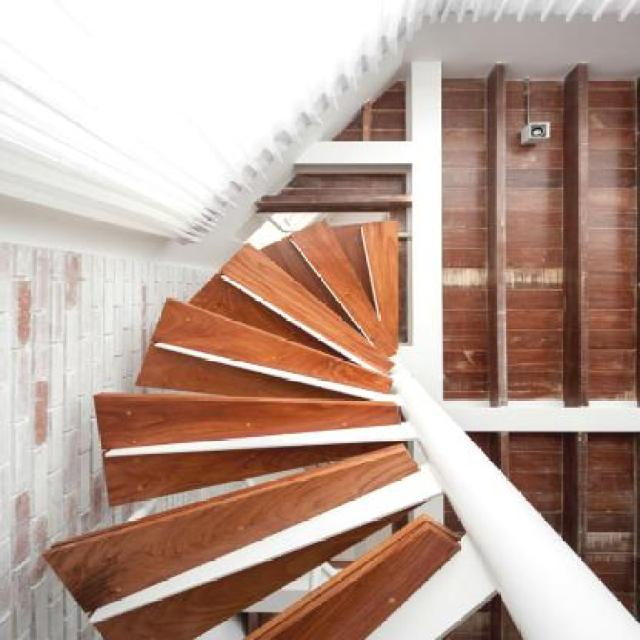stair: (26, 212, 634, 639)
